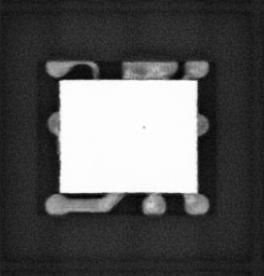DIE_INK: (139, 122, 148, 131)
